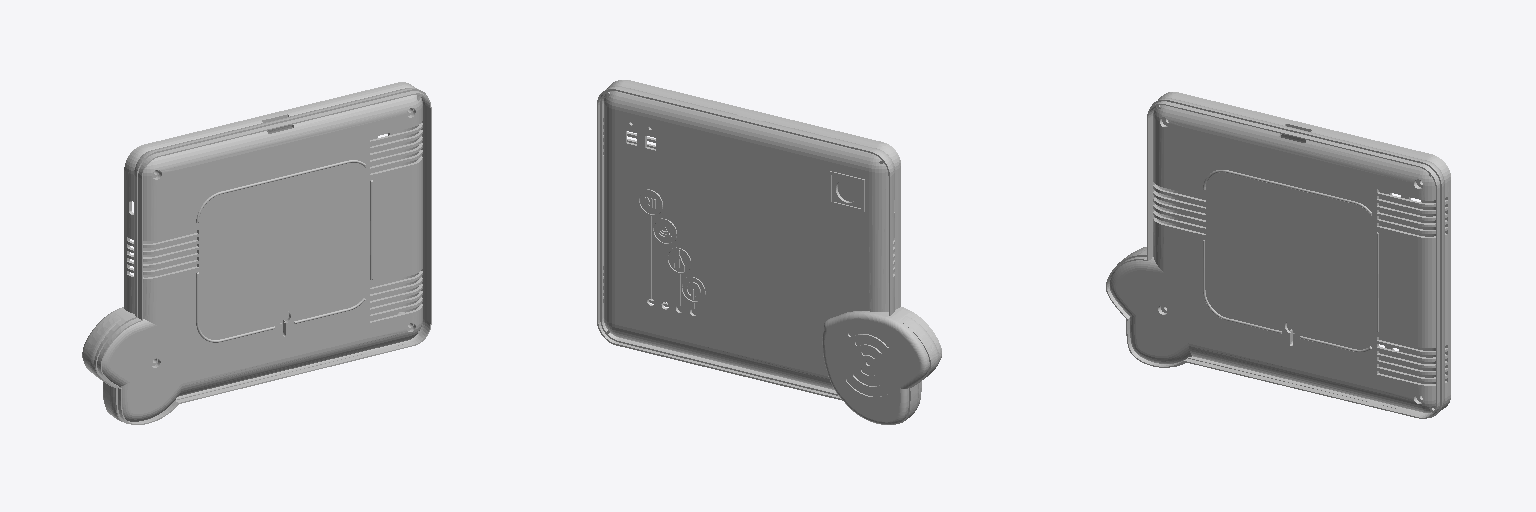
Rendered from RFIDTAG.obj.
3 views of the same model, side by side, from view 1: azimuth 30°, elevation 25°; view 2: azimuth 150°, elevation 25°; view 3: azimuth 330°, elevation 25° (orthographic).
Parts seen in each view (by area): view 1: Object.1; view 2: Object.1; view 3: Object.1.
Part boxes in pixels (x1,y1,x2,y2): Object.1: (82, 82, 431, 424); Object.1: (597, 80, 941, 424); Object.1: (1106, 92, 1450, 418).
Size of the model in its own units: 83.74 by 64.13 by 8.08.